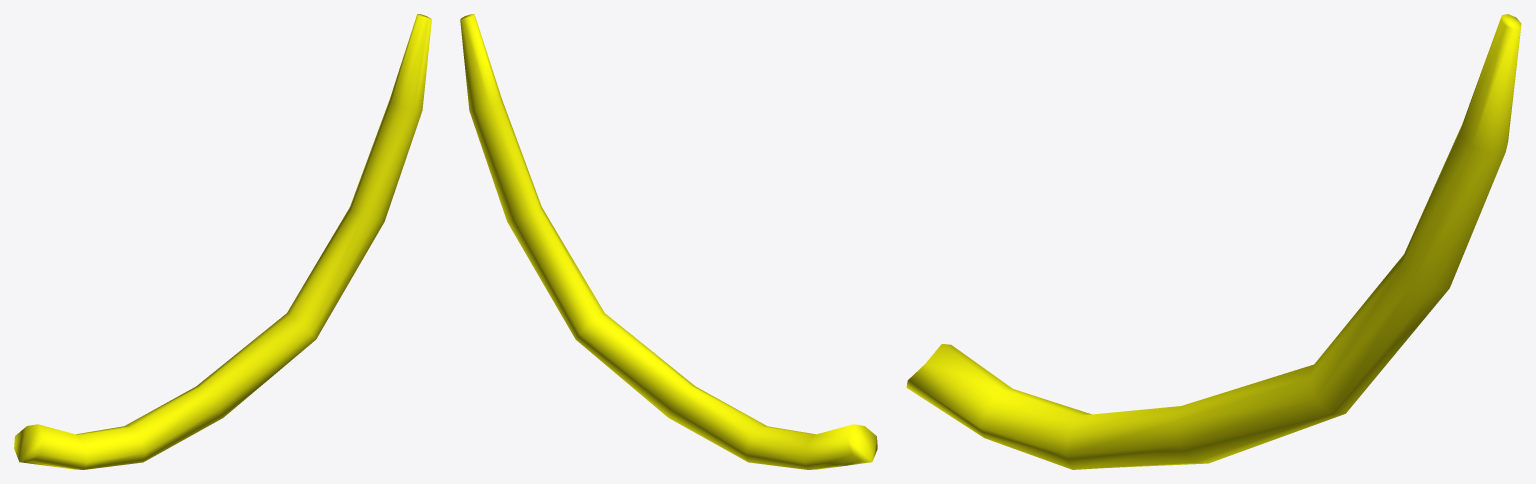
The model's file is bone_whale_piece_rib01.glb.
3 renders of one model, left to right at view 1: azimuth 30°, elevation 25°; view 2: azimuth 150°, elevation 25°; view 3: azimuth 330°, elevation 25°, orthographic. The views are drawn at different scales.
Visible parts, largest first — view 1: bone_whale_piece_rib01; view 2: bone_whale_piece_rib01; view 3: bone_whale_piece_rib01.
Boxes of the visible parts, x1,y1,x2,y2 form: bone_whale_piece_rib01: [14, 14, 431, 469]; bone_whale_piece_rib01: [460, 14, 877, 469]; bone_whale_piece_rib01: [906, 14, 1521, 469].
Bounding box in the file's own units: 11.29 × 9.89 × 1.18.
Materials: 1 (1 with a texture image).
